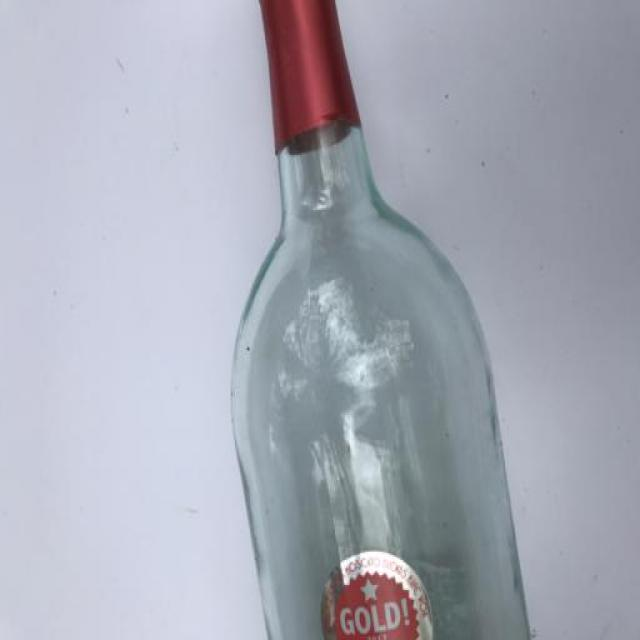Waste: (232, 0, 530, 639)
